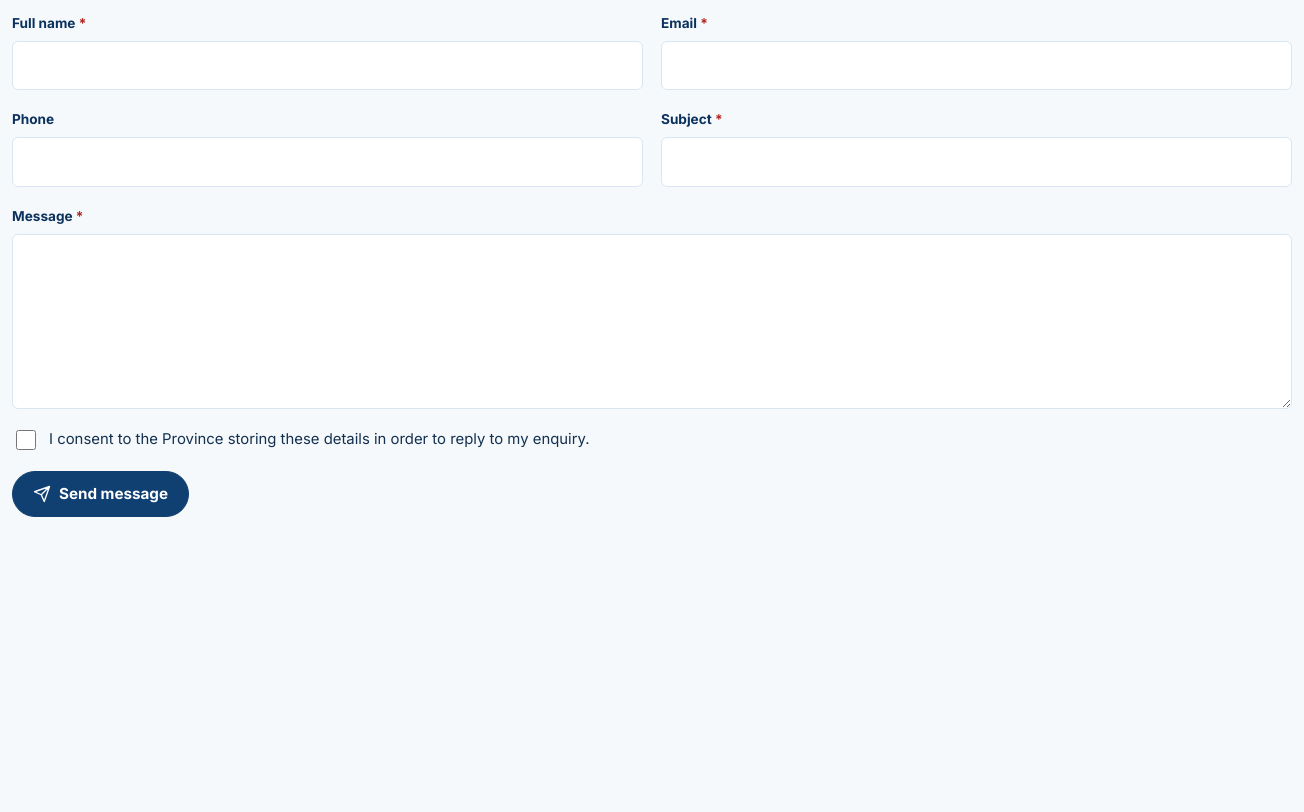
Test: ContactForm › reports validation errors instead of submitting an empty form
The image size is (1304, 812).
Click the button "Send message": (100, 494) [12, 471, 189, 517]
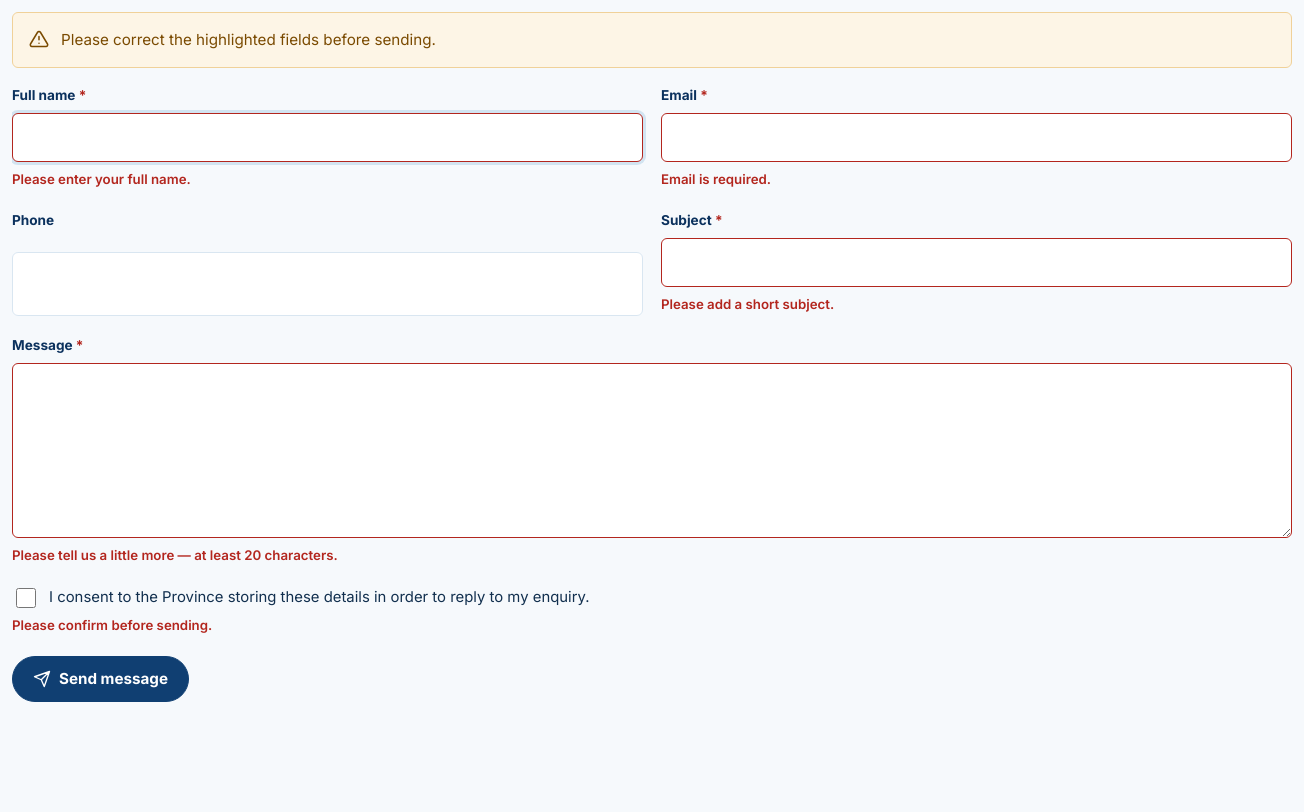
Check: the text "Please enter your full name." is shown, box [12, 171, 191, 187]
